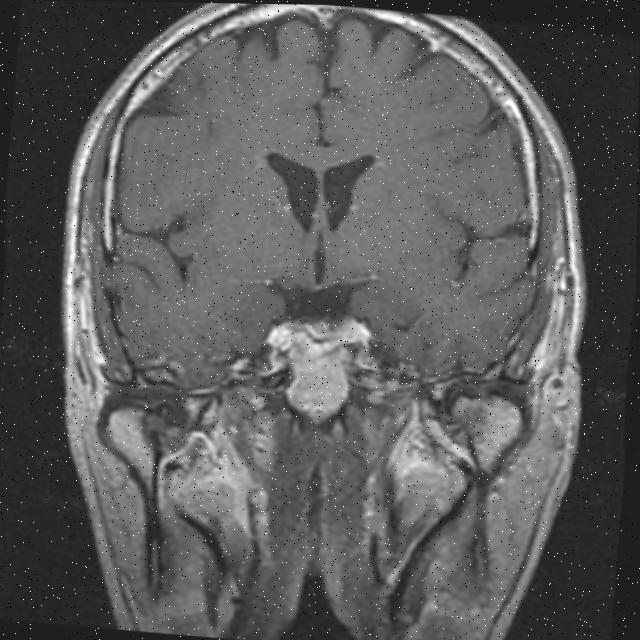Pituitary: (277, 310, 354, 425)
